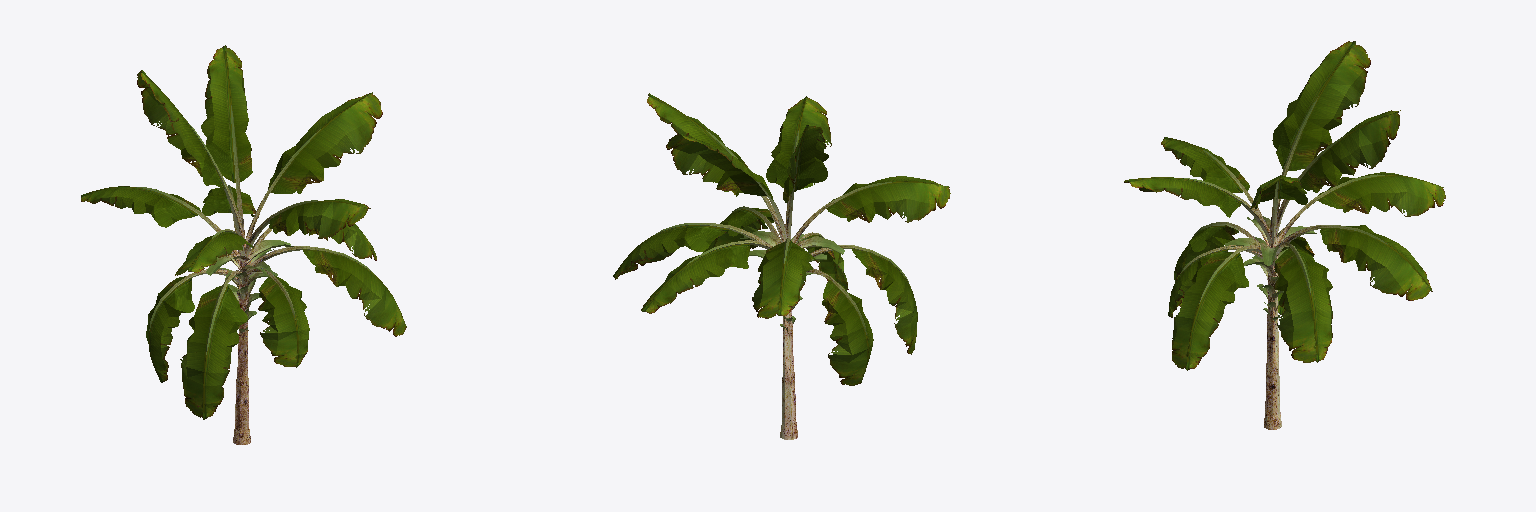
3 renders of one model, left to right at view 1: azimuth 30°, elevation 25°; view 2: azimuth 150°, elevation 25°; view 3: azimuth 270°, elevation 25°, orthographic.
Visible parts, largest first — view 1: tree; view 2: tree; view 3: tree.
Part boxes in pixels (x1,y1,x2,y2): tree: (81, 45, 406, 444); tree: (613, 93, 950, 439); tree: (1124, 41, 1445, 429).
Size of the model in its own units: 1.76 by 2.19 by 1.89.
Materials: 3 (3 with a texture image).